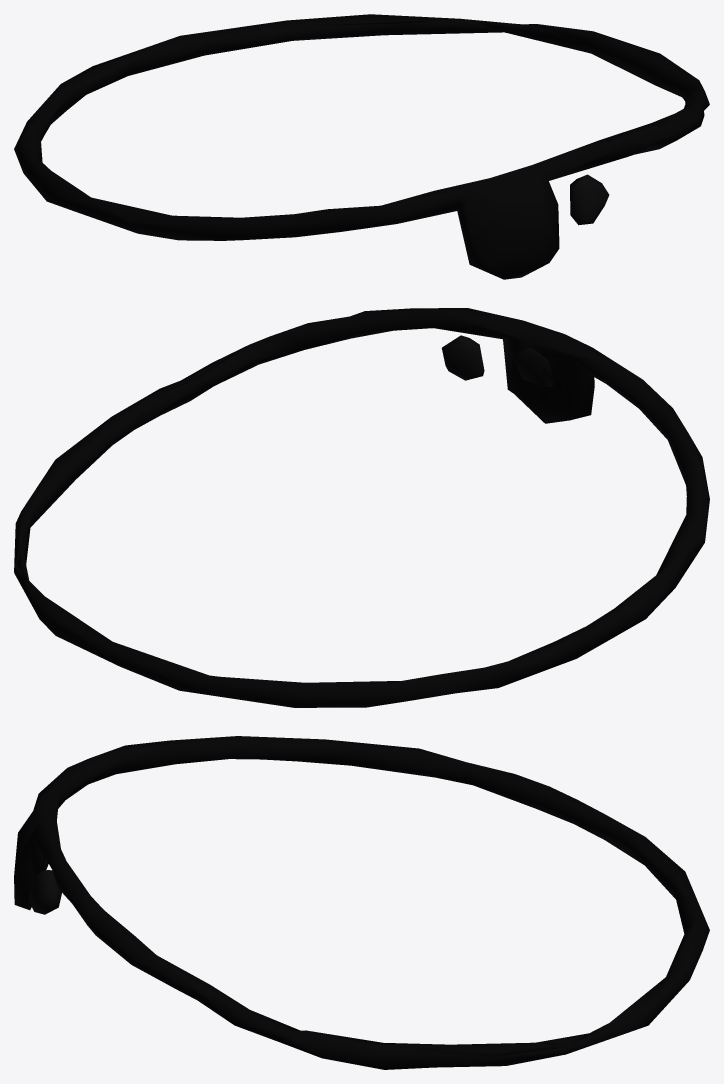
The model's file is eyepatch.glb.
3 views of the same model, one above another, from view 1: azimuth 30°, elevation 25°; view 2: azimuth 150°, elevation 25°; view 3: azimuth 270°, elevation 25° (orthographic).
Visible parts, largest first — view 1: eyes_eye_patch.001; view 2: eyes_eye_patch.001; view 3: eyes_eye_patch.001.
Part boxes in pixels (x1,y1,x2,y2): eyes_eye_patch.001: [14, 14, 709, 279]; eyes_eye_patch.001: [14, 308, 709, 707]; eyes_eye_patch.001: [14, 736, 709, 1069].
Bounding box in the file's own units: 0.3433 × 0.0725 × 0.3455.
2 materials, 2 textured.
